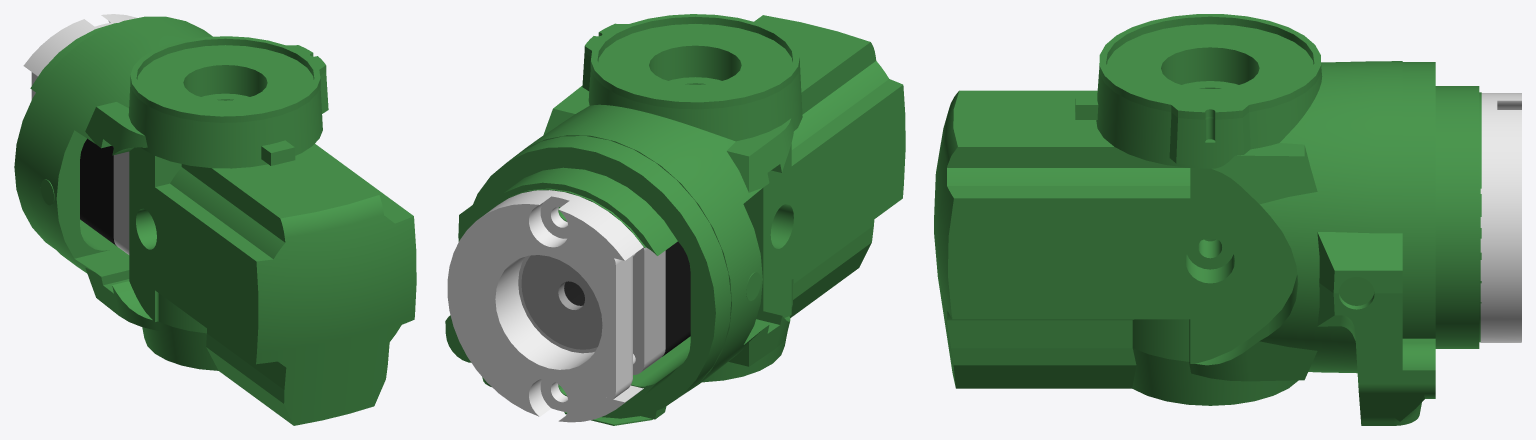
3 renders of one model, left to right at view 1: azimuth 30°, elevation 25°; view 2: azimuth 150°, elevation 25°; view 3: azimuth 270°, elevation 25°, orthographic. The views are drawn at different scales.
Parts seen in each view (by area): view 1: Cuerpo1:1, Cuerpo3, Cuerpo1, Cuerpo4; view 2: Cuerpo1:1, Cuerpo1, Cuerpo5, Cuerpo2, Cuerpo3; view 3: Cuerpo1:1, Cuerpo1.
Part boxes in pixels (x1,y1,x2,y2): Cuerpo1:1: [14, 16, 416, 425]; Cuerpo3: [80, 138, 116, 245]; Cuerpo1: [23, 14, 136, 99]; Cuerpo4: [113, 147, 129, 254]; Cuerpo1:1: [445, 14, 905, 425]; Cuerpo1: [447, 190, 643, 422]; Cuerpo5: [521, 255, 602, 349]; Cuerpo2: [518, 247, 665, 374]; Cuerpo3: [564, 241, 690, 356]; Cuerpo1:1: [934, 14, 1481, 425]; Cuerpo1: [1480, 93, 1521, 342].
Size of the model in its own units: 4.09 by 4.1 by 7.15.
